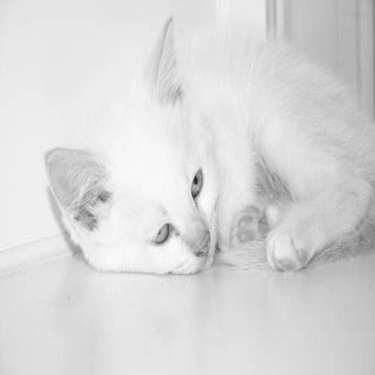cat: (40, 14, 372, 283)
